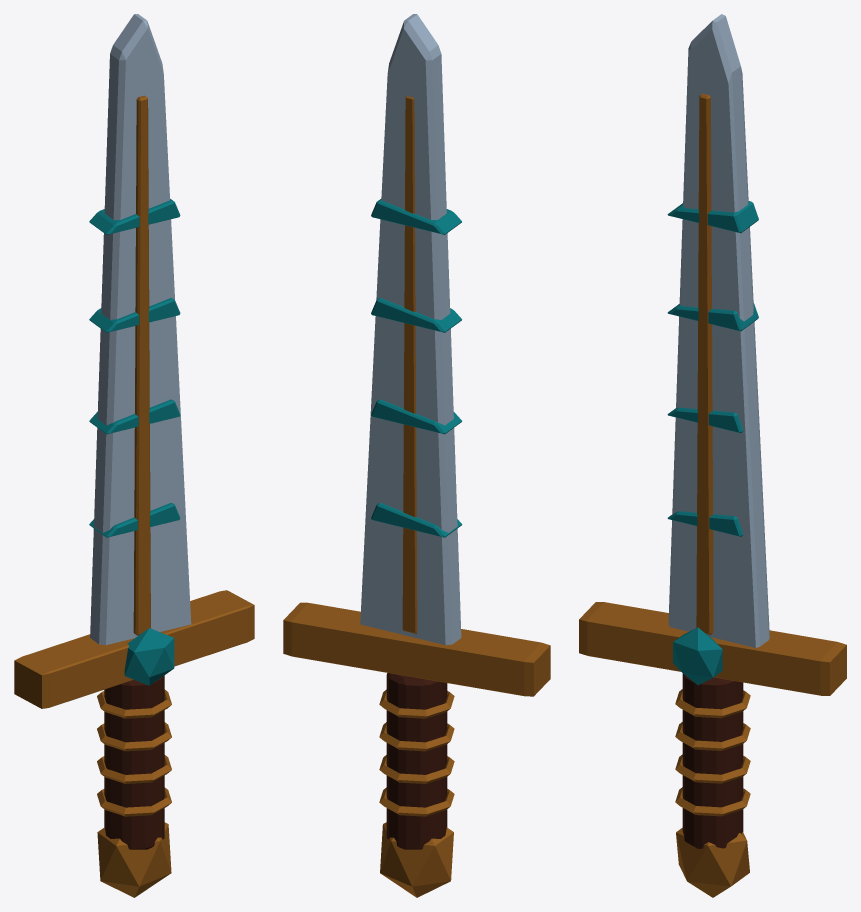
The model's file is shattered_edge.obj.
The picture shows the model from 3 angles, left to right: view 1: azimuth 30°, elevation 25°; view 2: azimuth 150°, elevation 25°; view 3: azimuth 330°, elevation 25°; orthographic projection.
Visible parts, largest first — view 1: ShatteredEdge_Blade.001_MAT_SilverSteel, ShatteredEdge_Guard.001_MAT_OldGold, ShatteredEdge_Fuller.001_MAT_OldGold, ShatteredEdge_Grip.001_MAT_Leather, ShatteredEdge_Pommel.001_MAT_OldGold, ShatteredEdge_Gem.001_MAT_Teal, ShatteredEdge_Seam1.002_MAT_Teal, ShatteredEdge_Seam1.001_MAT_Teal, ShatteredEdge_Seam0.002_MAT_Teal, ShatteredEdge_Seam0.001_MAT_Teal, ShatteredEdge_GripBand0.001_MAT_OldGold, ShatteredEdge_GripBand3.001_MAT_OldGold (+2 smaller); view 2: ShatteredEdge_Blade.001_MAT_SilverSteel, ShatteredEdge_Guard.001_MAT_OldGold, ShatteredEdge_Grip.001_MAT_Leather, ShatteredEdge_Fuller.001_MAT_OldGold, ShatteredEdge_Pommel.001_MAT_OldGold, ShatteredEdge_Seam1.002_MAT_Teal, ShatteredEdge_Seam1.001_MAT_Teal, ShatteredEdge_Seam0.002_MAT_Teal, ShatteredEdge_Seam0.001_MAT_Teal, ShatteredEdge_GripBand3.001_MAT_OldGold, ShatteredEdge_GripBand1.001_MAT_OldGold, ShatteredEdge_GripBand2.001_MAT_OldGold (+1 smaller); view 3: ShatteredEdge_Blade.001_MAT_SilverSteel, ShatteredEdge_Guard.001_MAT_OldGold, ShatteredEdge_Grip.001_MAT_Leather, ShatteredEdge_Fuller.001_MAT_OldGold, ShatteredEdge_Pommel.001_MAT_OldGold, ShatteredEdge_Gem.001_MAT_Teal, ShatteredEdge_Seam1.002_MAT_Teal, ShatteredEdge_Seam1.001_MAT_Teal, ShatteredEdge_Seam0.002_MAT_Teal, ShatteredEdge_Seam0.001_MAT_Teal, ShatteredEdge_GripBand2.001_MAT_OldGold, ShatteredEdge_GripBand0.001_MAT_OldGold (+2 smaller).
Part boxes in pixels (x1,y1,x2,y2): ShatteredEdge_Blade.001_MAT_SilverSteel: [90, 14, 191, 645]; ShatteredEdge_Guard.001_MAT_OldGold: [14, 590, 254, 708]; ShatteredEdge_Fuller.001_MAT_OldGold: [133, 95, 150, 635]; ShatteredEdge_Grip.001_MAT_Leather: [104, 675, 164, 849]; ShatteredEdge_Pommel.001_MAT_OldGold: [97, 822, 171, 897]; ShatteredEdge_Gem.001_MAT_Teal: [124, 628, 174, 685]; ShatteredEdge_Seam1.002_MAT_Teal: [89, 198, 180, 234]; ShatteredEdge_Seam1.001_MAT_Teal: [89, 298, 180, 332]; ShatteredEdge_Seam0.002_MAT_Teal: [89, 399, 180, 434]; ShatteredEdge_Seam0.001_MAT_Teal: [89, 503, 180, 537]; ShatteredEdge_GripBand0.001_MAT_OldGold: [97, 689, 171, 718]; ShatteredEdge_GripBand3.001_MAT_OldGold: [97, 787, 171, 816]; ShatteredEdge_Blade.001_MAT_SilverSteel: [360, 14, 461, 645]; ShatteredEdge_Guard.001_MAT_OldGold: [283, 602, 550, 696]; ShatteredEdge_Grip.001_MAT_Leather: [386, 673, 447, 849]; ShatteredEdge_Fuller.001_MAT_OldGold: [402, 96, 417, 633]; ShatteredEdge_Pommel.001_MAT_OldGold: [380, 822, 453, 897]; ShatteredEdge_Seam1.002_MAT_Teal: [371, 199, 461, 234]; ShatteredEdge_Seam1.001_MAT_Teal: [371, 298, 461, 332]; ShatteredEdge_Seam0.002_MAT_Teal: [371, 399, 461, 434]; ShatteredEdge_Seam0.001_MAT_Teal: [371, 503, 462, 537]; ShatteredEdge_GripBand3.001_MAT_OldGold: [379, 787, 454, 816]; ShatteredEdge_GripBand1.001_MAT_OldGold: [379, 722, 454, 751]; ShatteredEdge_GripBand2.001_MAT_OldGold: [379, 755, 454, 783]; ShatteredEdge_Blade.001_MAT_SilverSteel: [668, 14, 769, 647]; ShatteredEdge_Guard.001_MAT_OldGold: [579, 602, 846, 695]; ShatteredEdge_Grip.001_MAT_Leather: [682, 673, 743, 848]; ShatteredEdge_Fuller.001_MAT_OldGold: [696, 93, 713, 634]; ShatteredEdge_Pommel.001_MAT_OldGold: [676, 827, 749, 897]; ShatteredEdge_Gem.001_MAT_Teal: [673, 627, 722, 685]; ShatteredEdge_Seam1.002_MAT_Teal: [667, 201, 758, 233]; ShatteredEdge_Seam1.001_MAT_Teal: [667, 303, 758, 331]; ShatteredEdge_Seam0.002_MAT_Teal: [667, 407, 743, 433]; ShatteredEdge_Seam0.001_MAT_Teal: [667, 511, 743, 536]; ShatteredEdge_GripBand2.001_MAT_OldGold: [675, 754, 750, 783]; ShatteredEdge_GripBand0.001_MAT_OldGold: [675, 689, 750, 718].
Size of the model in its own units: 1.37 by 4.85 by 0.4328.
